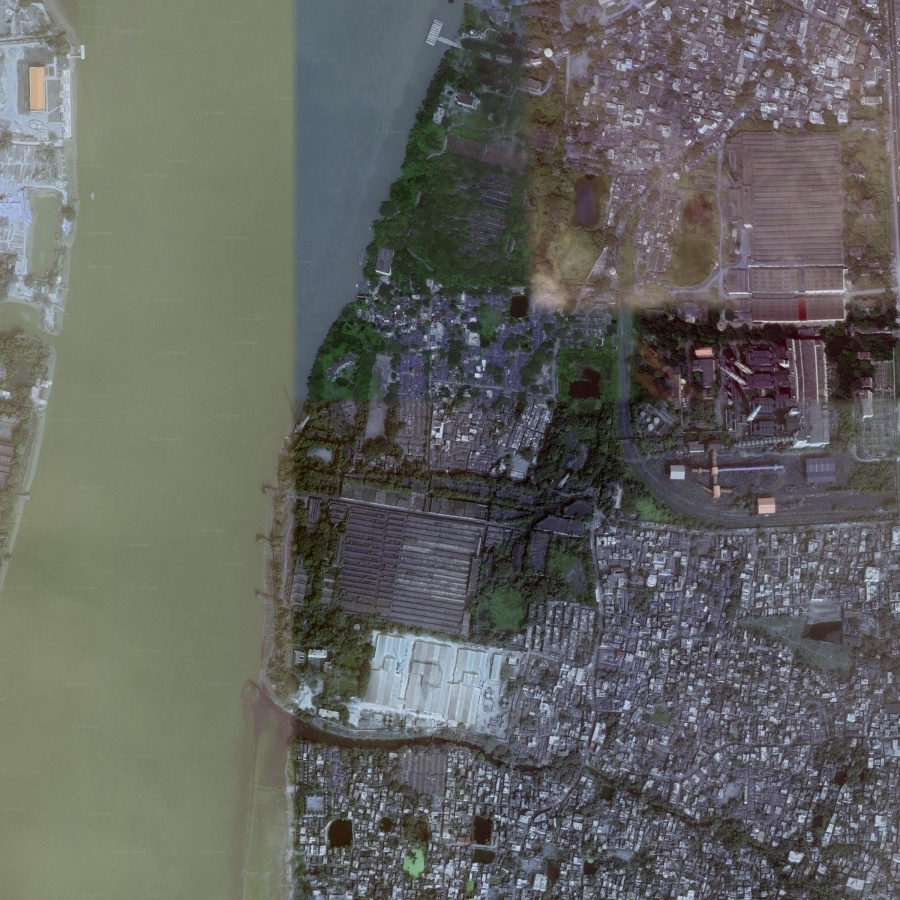PowerPlant: (624, 274, 869, 513)
